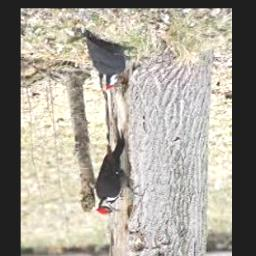Woodpecker: (95, 129, 142, 215), (87, 35, 138, 90)
